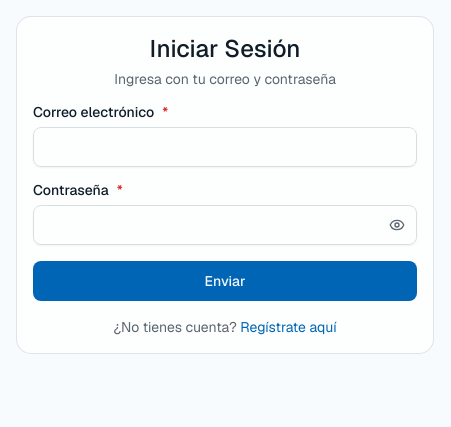
Test: LoginPage › requires both email and password
Click the button "Enviar": (225, 281) [33,261,417,301]
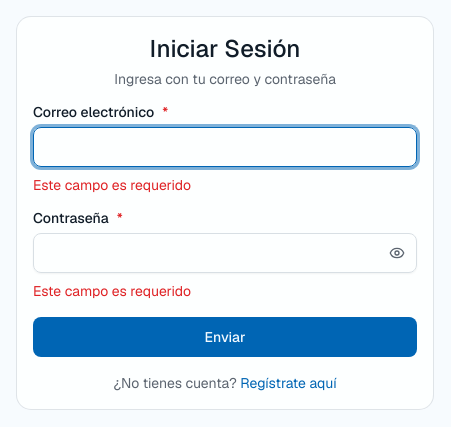
Check: the text "Este campo es requerido" is shown 2 times, box [33,176,191,194]; [33,282,191,300]
